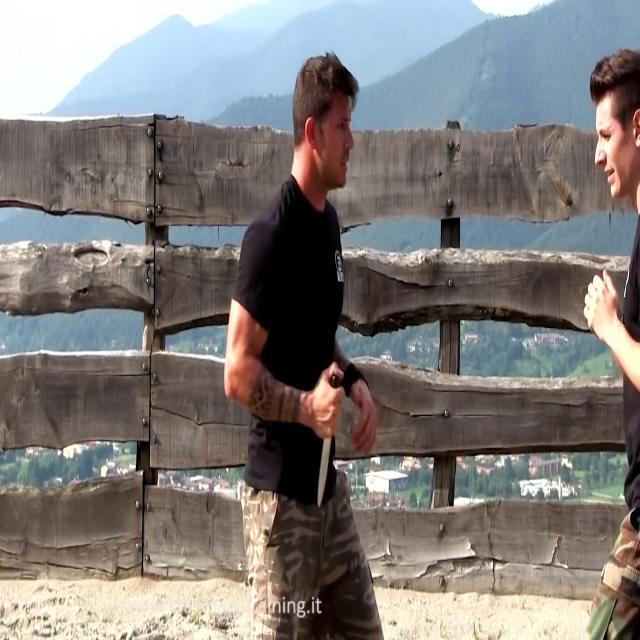knife: (315, 372, 340, 517)
